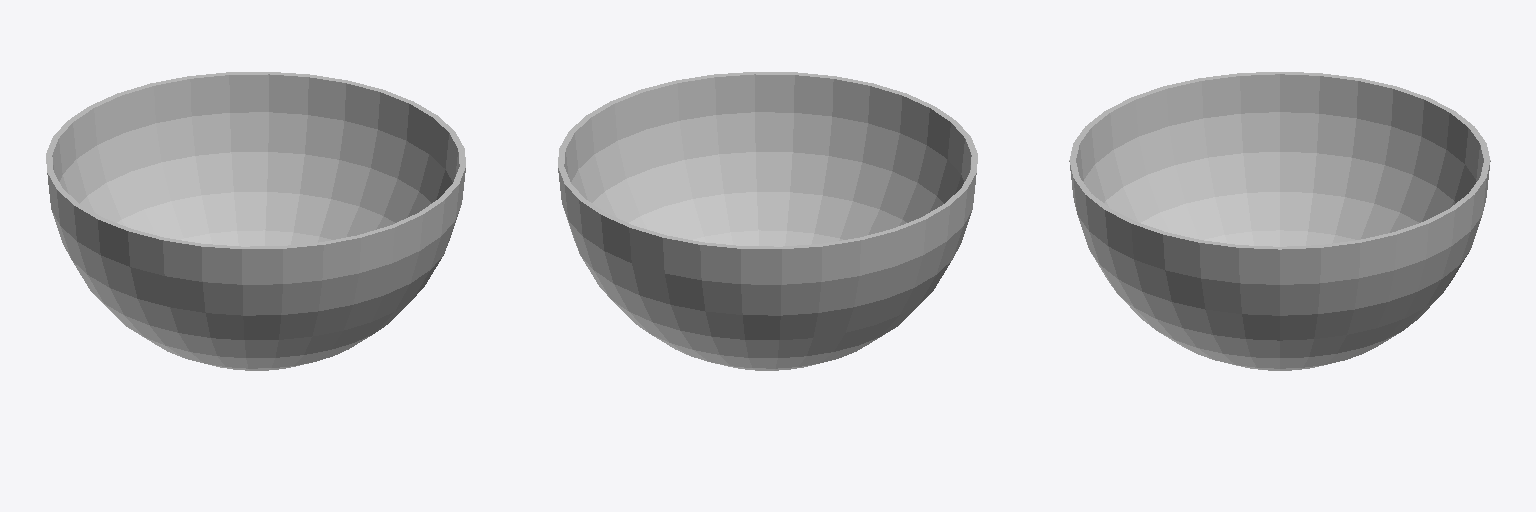
Rendered from bowl.obj.
3 views of the same model, side by side, from view 1: azimuth 30°, elevation 25°; view 2: azimuth 150°, elevation 25°; view 3: azimuth 270°, elevation 25° (orthographic).
Parts seen in each view (by area): view 1: Bowl; view 2: Bowl; view 3: Bowl.
Boxes of the visible parts, <box> form: Bowl: <box>46,72,465,370</box>; Bowl: <box>558,72,977,370</box>; Bowl: <box>1069,72,1490,370</box>.
Size of the model in its own units: 160 by 80 by 160.